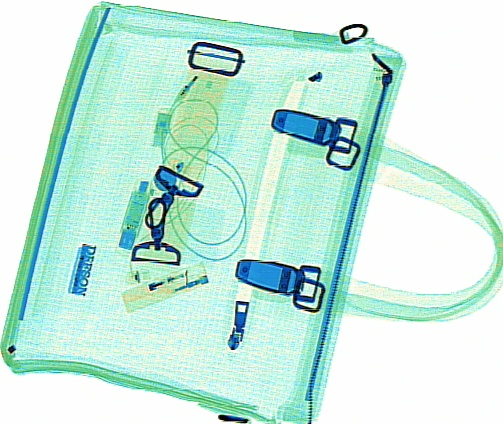lighter: (119, 262, 209, 313)
